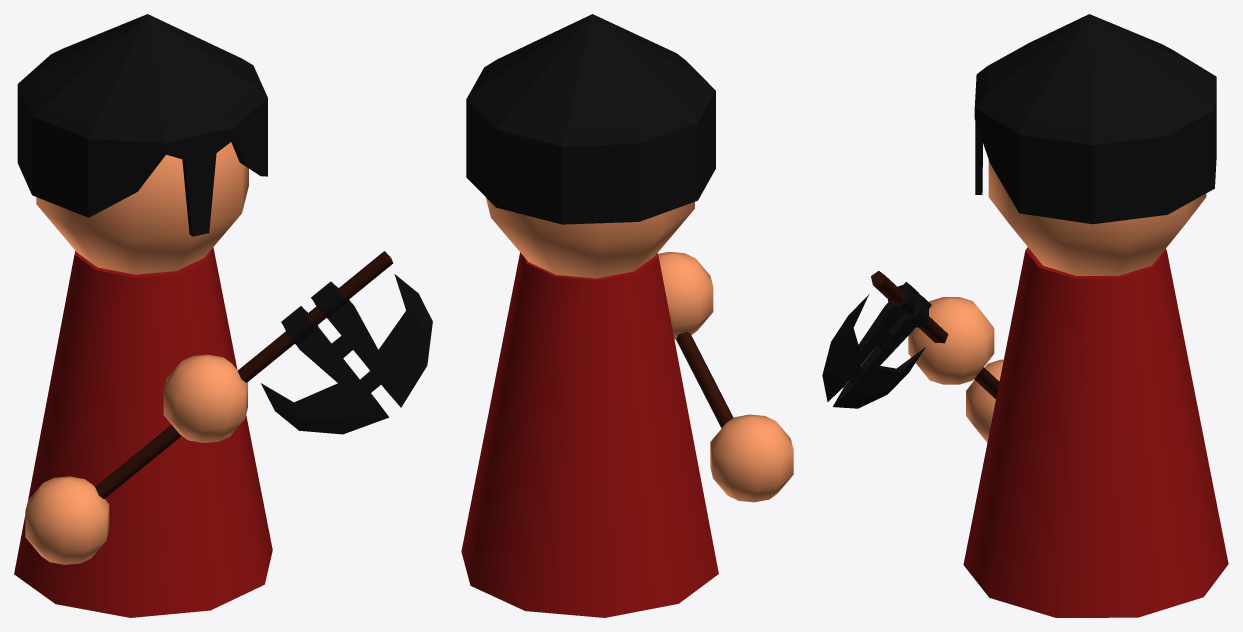
The model's file is MeleeRed.FBX.
The picture shows the model from 3 angles, left to right: view 1: azimuth 30°, elevation 25°; view 2: azimuth 150°, elevation 25°; view 3: azimuth 270°, elevation 25°; orthographic projection.
Parts seen in each view (by area): view 1: Cone001; view 2: Cone001; view 3: Cone001.
Boxes of the visible parts, x1,y1,x2,y2 form: Cone001: [14, 14, 432, 617]; Cone001: [461, 14, 793, 617]; Cone001: [822, 14, 1228, 617].
Size of the model in its own units: 49.56 by 55.81 by 83.52.
